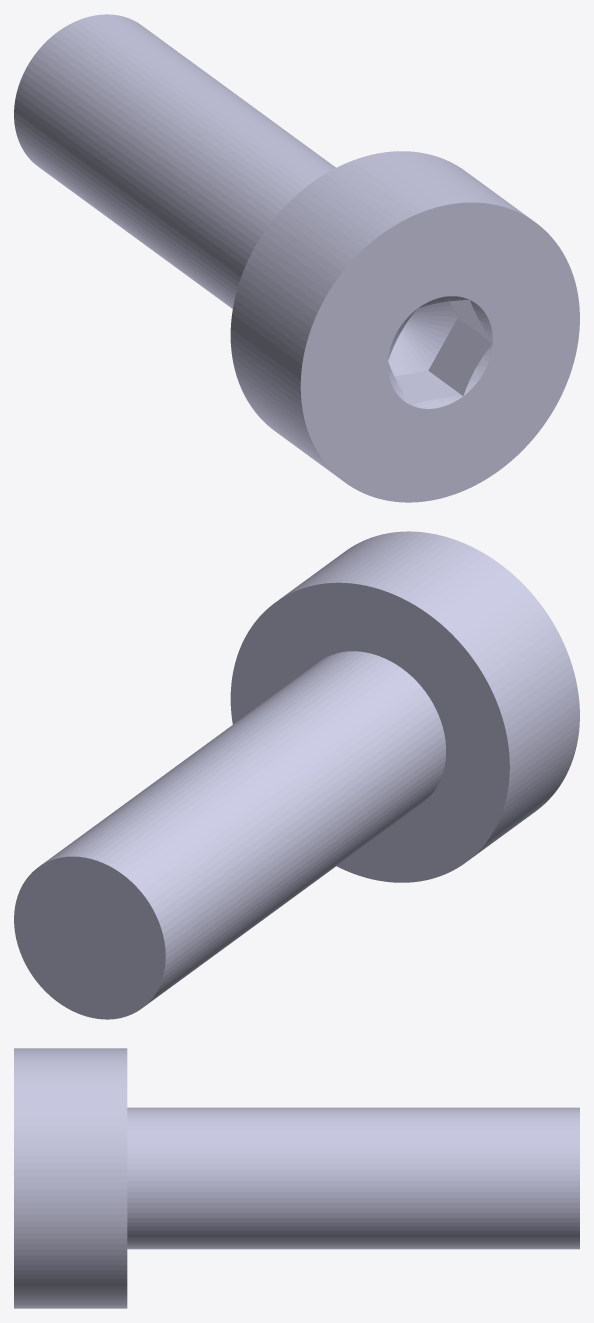
The model's file is ugv_ddsm_m2_5019_ox8jza.dae.
The picture shows the model from 3 angles, top to bottom: view 1: azimuth 30°, elevation 25°; view 2: azimuth 150°, elevation 25°; view 3: azimuth 270°, elevation 25°; orthographic projection. The views are drawn at different scales.
Parts seen in each view (by area): view 1: node0; view 2: node0; view 3: node0.
Boxes of the visible parts, left/top/right/bottom form: node0: left=14, top=14, right=579, bottom=502; node0: left=14, top=531, right=579, bottom=1019; node0: left=14, top=1048, right=579, bottom=1308.
Bounding box in the file's own units: 0.0046 × 0.01 × 0.0046.
